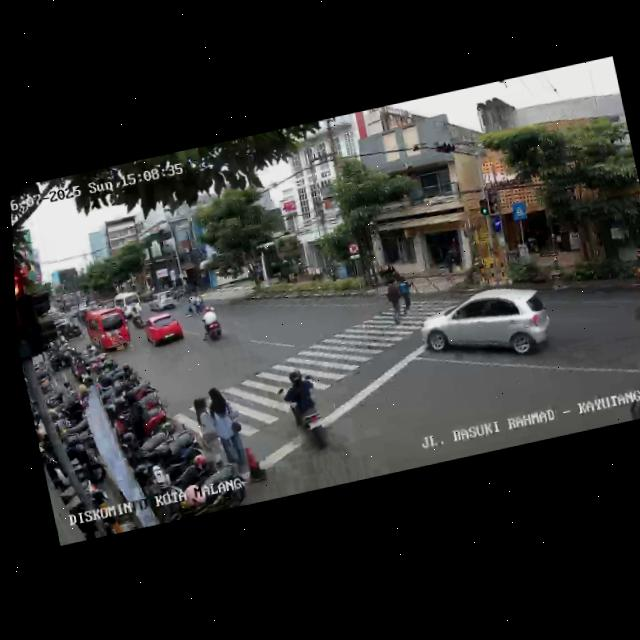car: (415, 274, 558, 380), (79, 303, 133, 359), (141, 310, 186, 352), (111, 286, 145, 321), (147, 289, 180, 316), (54, 313, 83, 341), (629, 268, 640, 332)
motorcycle: (278, 366, 330, 453), (617, 347, 640, 421), (198, 302, 227, 345), (185, 291, 202, 315), (129, 304, 143, 327)
person: (204, 379, 254, 485), (189, 391, 231, 478), (381, 275, 406, 327), (395, 272, 417, 316)
